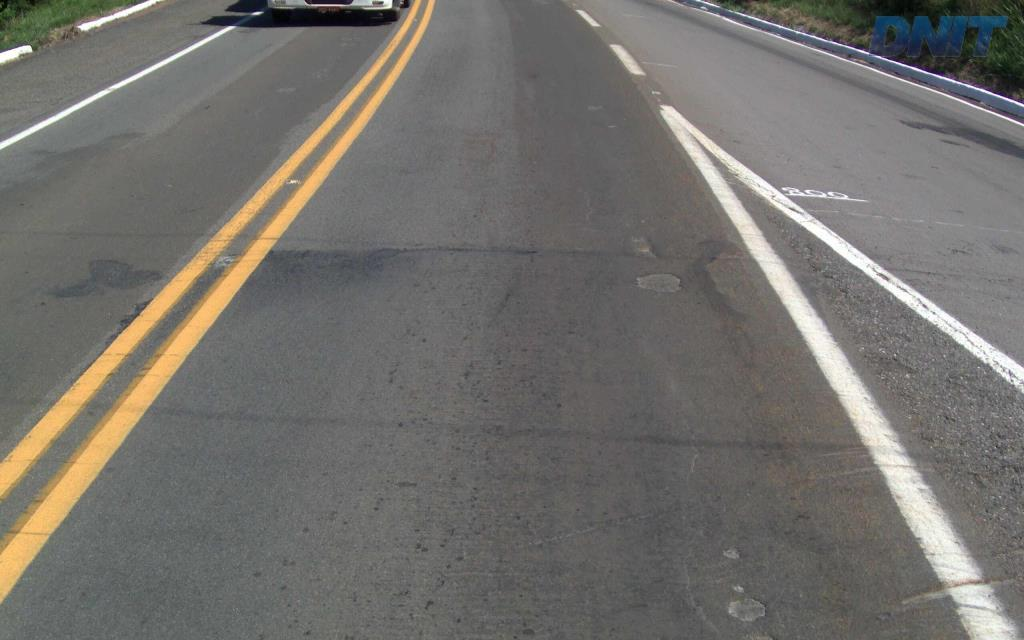pothole: (722, 582, 771, 626), (627, 269, 686, 295), (714, 541, 747, 563)
